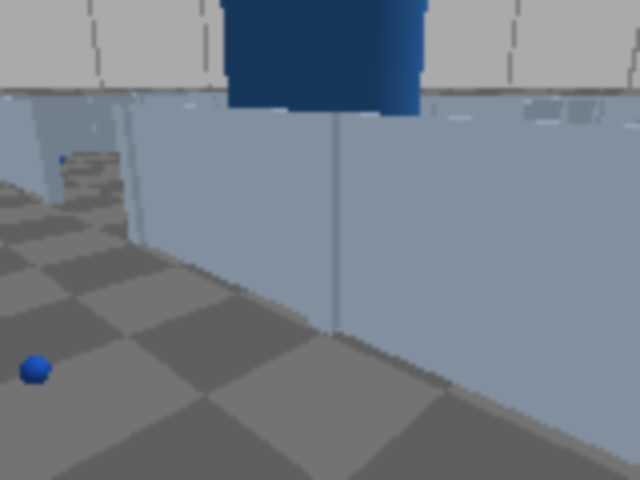puck: (9, 349, 59, 394)
